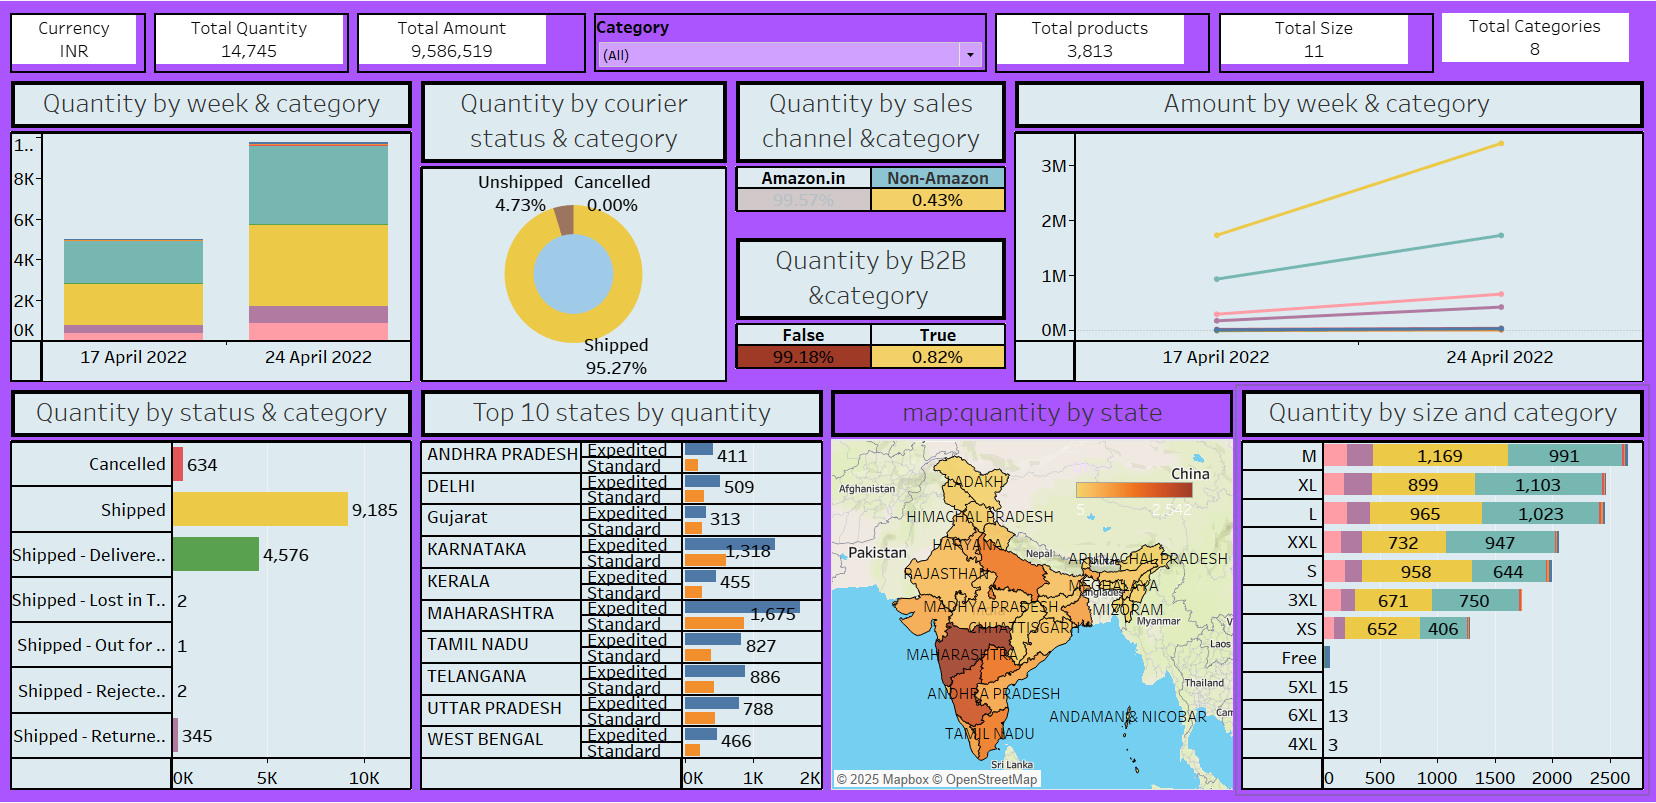

The page's visual inventory and layout, read from the dashboard file:
{"tool":"tableau","page":{"name":"Dashboard 1","canvas":[1000,1000],"units":"permille","ordinal":0},"visuals":[{"type":"worksheet","title":"Currency","mark":"Automatic","box":[4.8,10,86.9,85.3]},{"type":"worksheet","title":"Total Quantity","mark":"Automatic","box":[91.8,10,122.6,85.3]},{"type":"worksheet","title":"Total Amount","mark":"Automatic","box":[214.3,10,142.7,85.3]},{"type":"filter","title":"Amount by week & category ","param":"[federated.15b1vd61wvxzm713qkpwi0zzirah].[none:Category:nk]","box":[357.1,10,242,83.7]},{"type":"worksheet","title":"Total products","mark":"Automatic","box":[599.1,10,134.7,85.3]},{"type":"worksheet","title":"Total Size","mark":"Automatic","box":[733.8,10,134.7,85.3]},{"type":"worksheet","title":"Total Categories","mark":"Automatic","box":[868.5,10,126.7,85.3]},{"type":"worksheet","title":"Quantity by week & category","mark":"Bar","rows":["Qty"],"cols":["Date"],"box":[4.8,95.3,247.3,385.8]},{"type":"worksheet","title":"Quantity by courier status & category","mark":"Pie","rows":["Calculation_52917298713444355","Calculation_52917298713444355"],"box":[252.1,95.3,190.1,385.8]},{"type":"worksheet","title":"Quantity by sales channel &category","mark":"Square","cols":["Sales Channel"],"box":[442.2,95.3,168.2,195.3]},{"type":"worksheet","title":"Amount by week & category ","mark":"Line","rows":["Amount"],"cols":["Date"],"box":[610.4,95.3,384.8,385.8]},{"type":"worksheet","title":"Quantity by B2B &category ","mark":"Square","cols":["B2B"],"box":[442.2,290.5,168.2,190.5]},{"type":"worksheet","title":"Quantity by status & category","mark":"Bar","rows":["Status"],"cols":["Qty"],"box":[4.8,481,247.6,509]},{"type":"worksheet","title":"Top 10 states by quantity","mark":"Bar","rows":["ship-state","ship-service-level"],"cols":["Qty"],"box":[252.4,481,247.6,509]},{"type":"worksheet","title":"map:quantity by state","mark":"Automatic","box":[500,481,247.6,509]},{"type":"worksheet","title":"Quantity by size and category","mark":"Bar","rows":["Size"],"cols":["Qty"],"box":[747.6,481,247.6,509]},{"type":"legend","title":"map:quantity by state","param":"[federated.15b1vd61wvxzm713qkpwi0zzirah].[sum:Qty:qk]","box":[647.6,567.6,75.7,83.8]}]}

Visuals, with their boxes on the dashboard's canvas, which has no fixed pixel size, in thousandths of its width and height (x1, y1, x2, y2). These are canvas units, not pixel positions in the 1656x803 screenshot, which may show the page scaled, cropped or inside an application window:
"Currency" worksheet: [x1=5, y1=10, x2=92, y2=95]
"Total Quantity" worksheet: [x1=92, y1=10, x2=214, y2=95]
"Total Amount" worksheet: [x1=214, y1=10, x2=357, y2=95]
"Amount by week & category " filter: [x1=357, y1=10, x2=599, y2=94]
"Total products" worksheet: [x1=599, y1=10, x2=734, y2=95]
"Total Size" worksheet: [x1=734, y1=10, x2=868, y2=95]
"Total Categories" worksheet: [x1=868, y1=10, x2=995, y2=95]
"Quantity by week & category" worksheet (Bar marks): [x1=5, y1=95, x2=252, y2=481]
"Quantity by courier status & category" worksheet (Pie marks): [x1=252, y1=95, x2=442, y2=481]
"Quantity by sales channel &category" worksheet (Square marks): [x1=442, y1=95, x2=610, y2=291]
"Amount by week & category " worksheet (Line marks): [x1=610, y1=95, x2=995, y2=481]
"Quantity by B2B &category " worksheet (Square marks): [x1=442, y1=290, x2=610, y2=481]
"Quantity by status & category" worksheet (Bar marks): [x1=5, y1=481, x2=252, y2=990]
"Top 10 states by quantity" worksheet (Bar marks): [x1=252, y1=481, x2=500, y2=990]
"map:quantity by state" worksheet: [x1=500, y1=481, x2=748, y2=990]
"Quantity by size and category" worksheet (Bar marks): [x1=748, y1=481, x2=995, y2=990]
"map:quantity by state" legend: [x1=648, y1=568, x2=723, y2=651]
